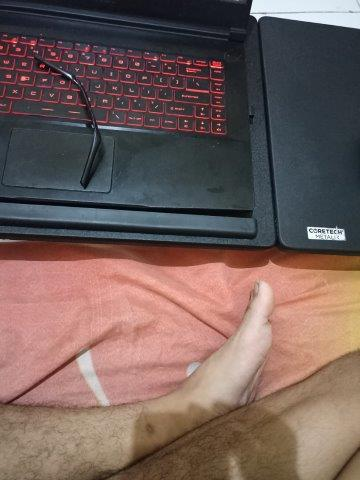sedotan: (35, 56, 101, 188)
